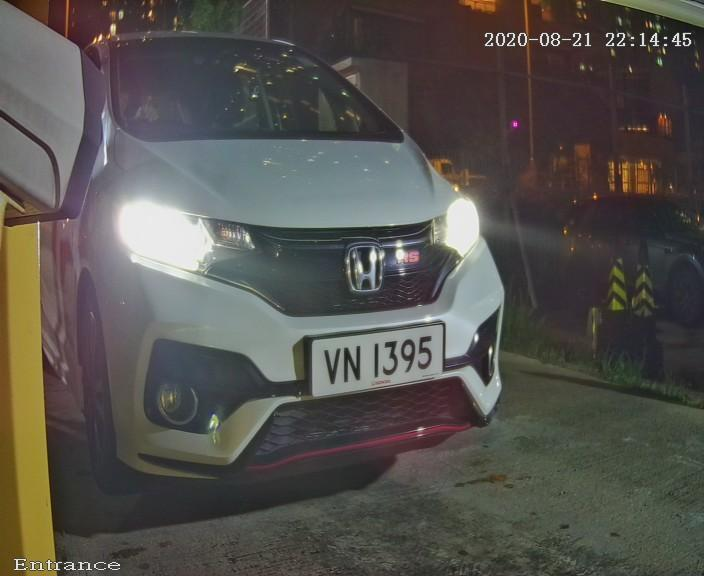License Plate: (283, 314, 459, 402)
